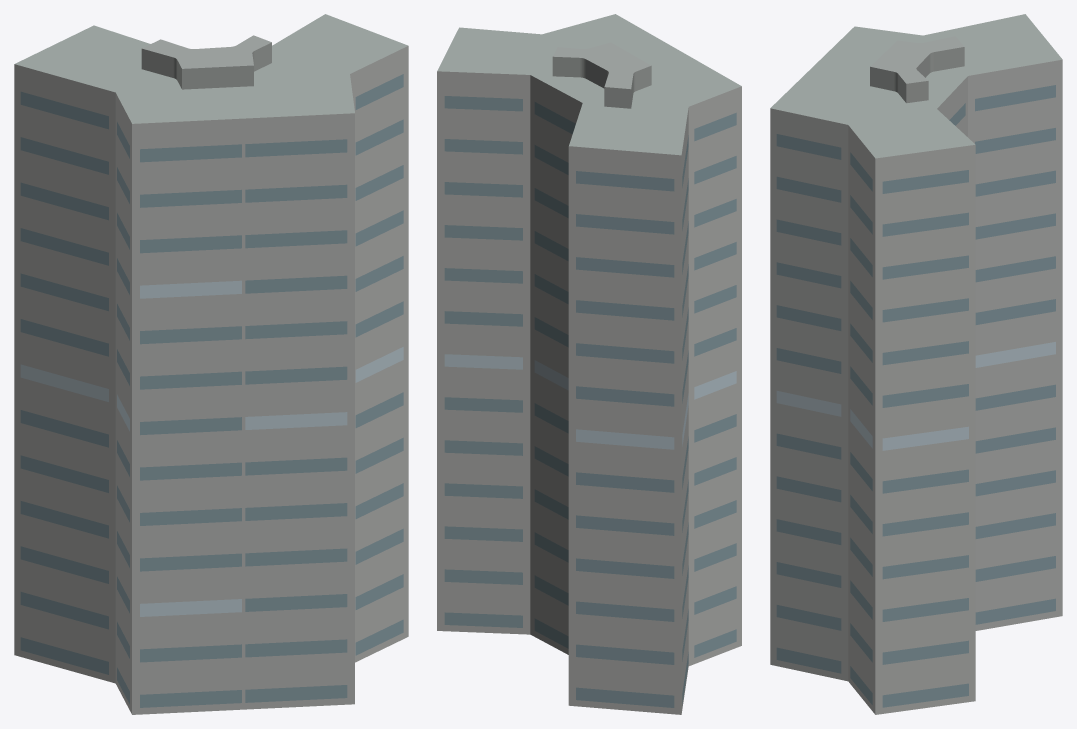
The model's file is fallback-jamsil-els-170.glb.
3 views of the same model, side by side, from view 1: azimuth 30°, elevation 25°; view 2: azimuth 150°, elevation 25°; view 3: azimuth 270°, elevation 25° (orthographic). The views are drawn at different scales.
Parts seen in each view (by area): view 1: fallback-jamsil-els-170; view 2: fallback-jamsil-els-170; view 3: fallback-jamsil-els-170.
Part boxes in pixels (<box>): fallback-jamsil-els-170: <box>14,14,408,714</box>; fallback-jamsil-els-170: <box>437,14,741,714</box>; fallback-jamsil-els-170: <box>770,14,1062,714</box>.
Bounding box in the file's own units: 38.21 × 71 × 32.68.
